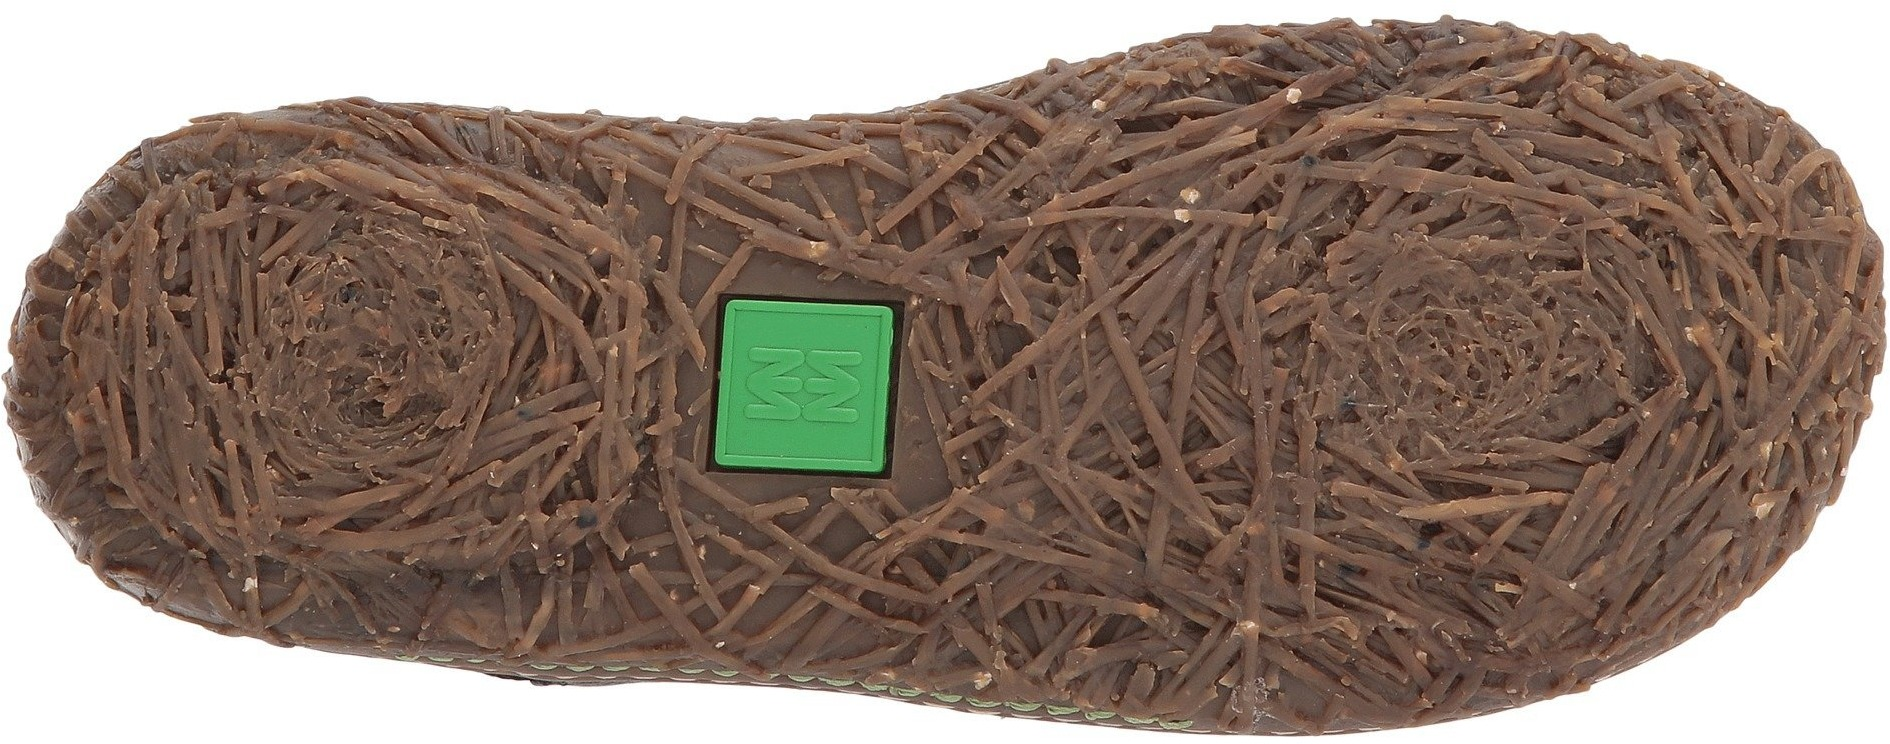other: (1493, 102, 1767, 367), (925, 131, 1193, 387), (345, 353, 609, 607), (950, 404, 1205, 645), (1225, 297, 1480, 532), (1496, 383, 1739, 608), (1213, 55, 1451, 283), (344, 127, 564, 345), (136, 392, 337, 603), (115, 192, 331, 386), (670, 474, 859, 663), (1264, 545, 1452, 724), (670, 123, 830, 285)
text: (736, 330, 876, 449)
